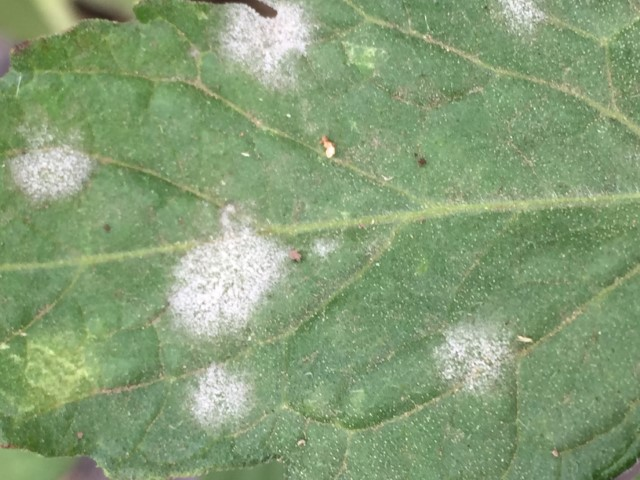oidio: (170, 203, 289, 337), (216, 2, 322, 91), (9, 121, 91, 201), (434, 315, 513, 394), (189, 362, 256, 437), (489, 1, 548, 37), (310, 235, 337, 260)
